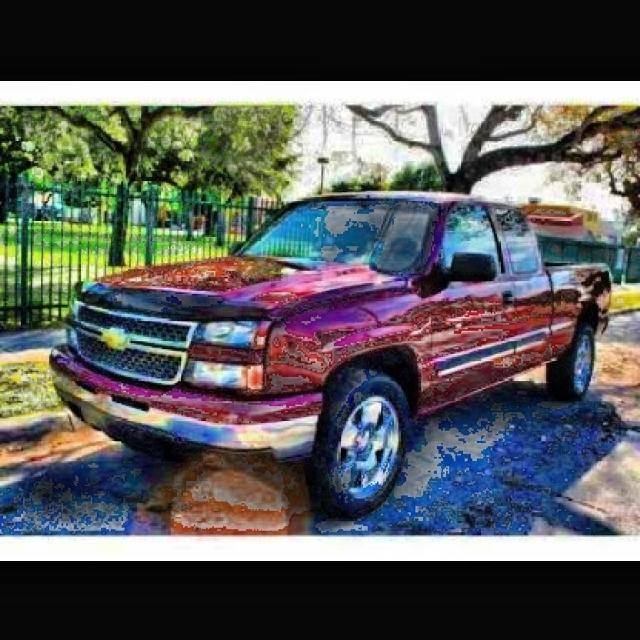maroon: (55, 186, 616, 457)
